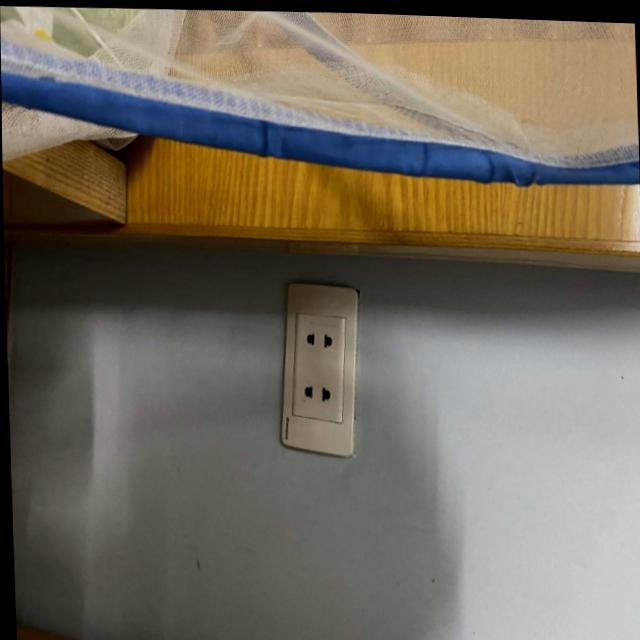outlet: (273, 279, 363, 459)
